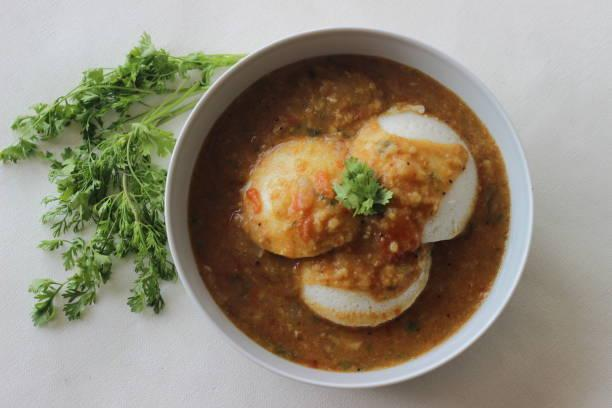idli: (265, 138, 456, 288)
sambhar: (194, 140, 258, 319)
